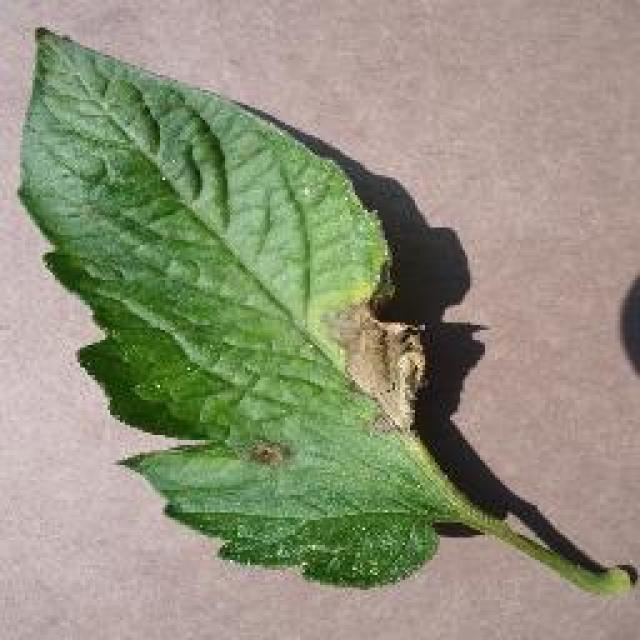Tomato___Late_blight: (18, 28, 638, 600)
